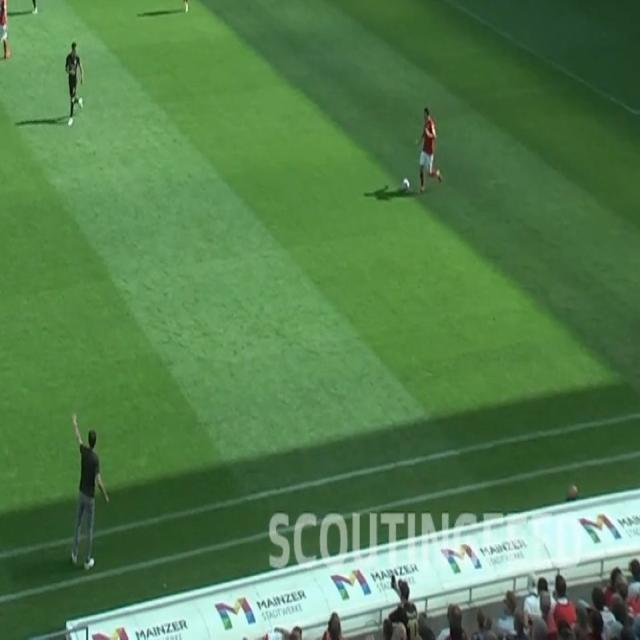ball: (402, 177, 411, 194)
